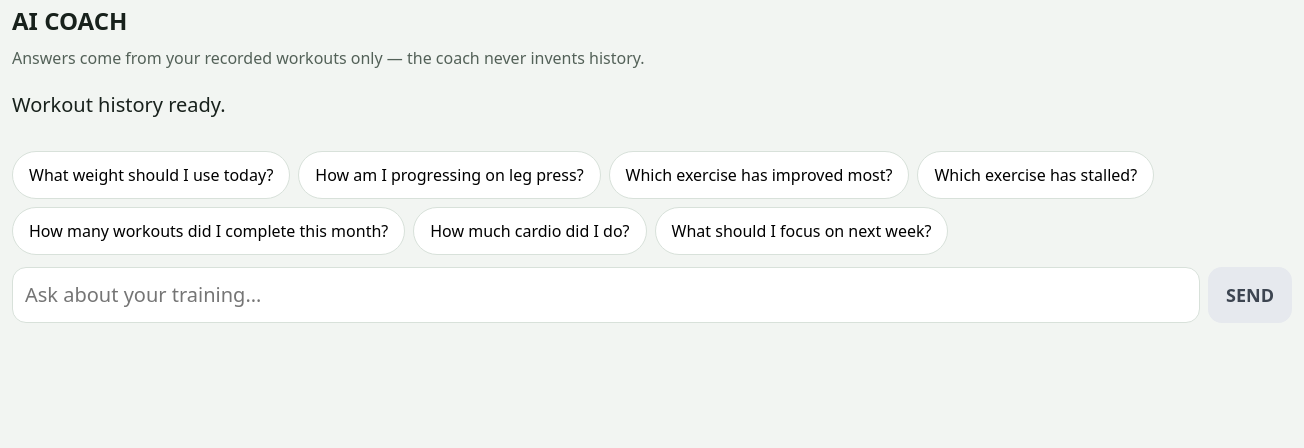
Test: CoachScreen › asks with a quick question and shows both bubbles
The width and height of the screenshot is (1304, 448).
Expected: the text "Workout history ready." is shown, [12, 91, 226, 118]
Click the button "How many workouts did I complete this month?" at coordinates (209, 231), box [12, 207, 405, 255]
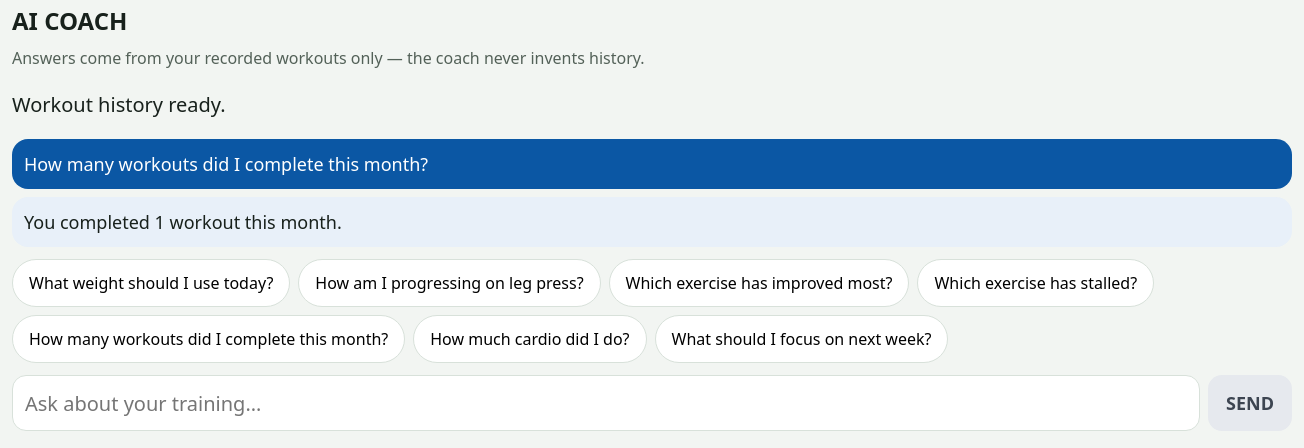
Now the text "How many workouts did I complete this month?" is shown 2 times, box [12, 139, 1292, 189]; [12, 315, 405, 363]
Now the text "You completed 1 workout this month." is shown, box [12, 197, 1292, 247]
